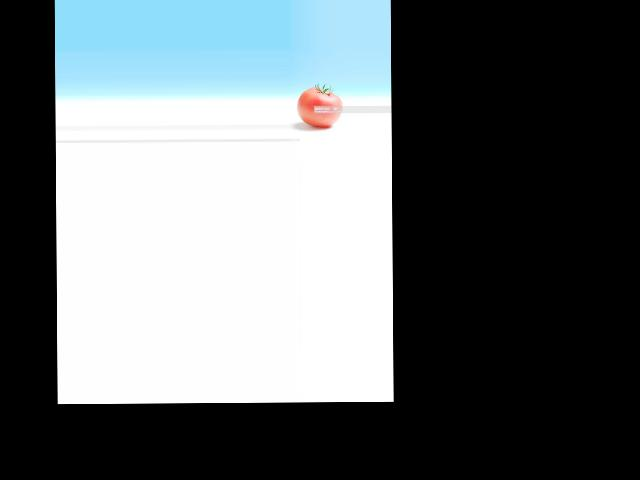tomato: (297, 87, 343, 126)
